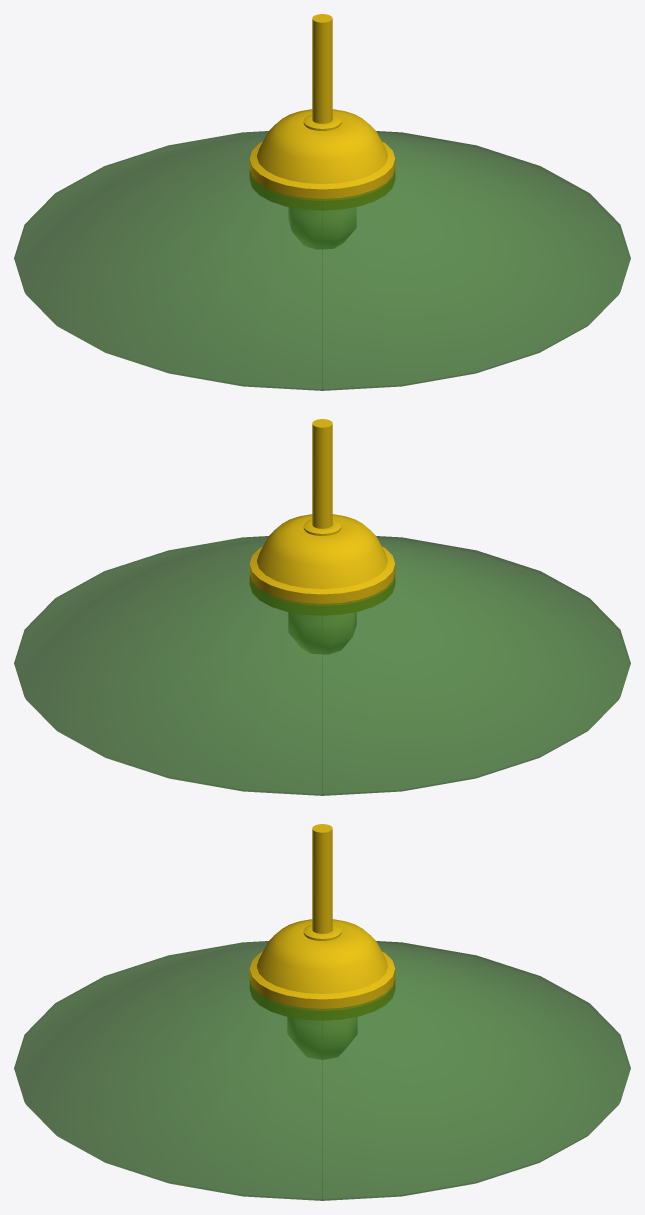
The model's file is library_ceiling_light.glb.
The picture shows the model from 3 angles, top to bottom: view 1: azimuth 30°, elevation 25°; view 2: azimuth 150°, elevation 25°; view 3: azimuth 270°, elevation 25°; orthographic projection.
Parts seen in each view (by area): view 1: Glass, LibraryHangingLight, lightBulb; view 2: Glass, LibraryHangingLight, lightBulb; view 3: Glass, LibraryHangingLight, lightBulb.
Part boxes in pixels (x1=…): Glass: x1=14, y1=131, x2=630, y2=390; LibraryHangingLight: x1=249, y1=14, x2=395, y2=210; lightBulb: x1=288, y1=207, x2=356, y2=249; Glass: x1=14, y1=536, x2=630, y2=795; LibraryHangingLight: x1=249, y1=419, x2=395, y2=615; lightBulb: x1=288, y1=612, x2=356, y2=654; Glass: x1=14, y1=941, x2=630, y2=1200; LibraryHangingLight: x1=249, y1=824, x2=395, y2=1020; lightBulb: x1=287, y1=1017, x2=357, y2=1059.
Size of the model in its own units: 0.7989 by 0.3471 by 0.7989.
